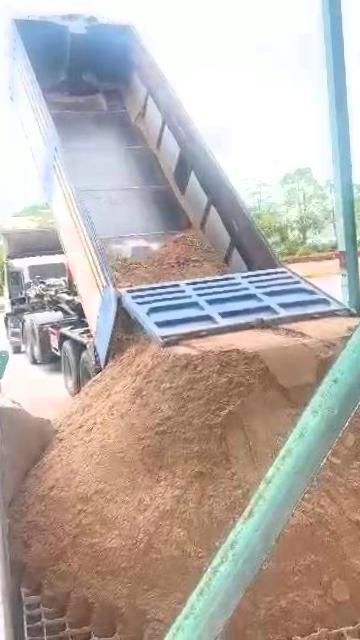sand: (12, 319, 353, 640), (238, 400, 360, 640), (109, 231, 227, 287), (0, 391, 53, 510), (112, 309, 140, 359), (292, 620, 360, 640)
